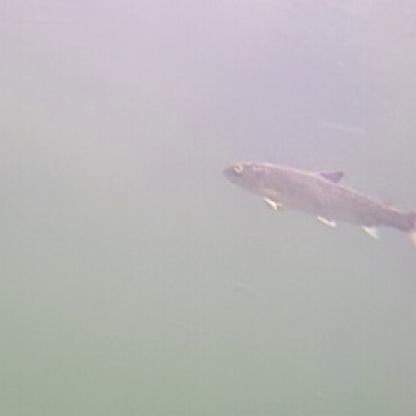salmon: (217, 154, 414, 243)
